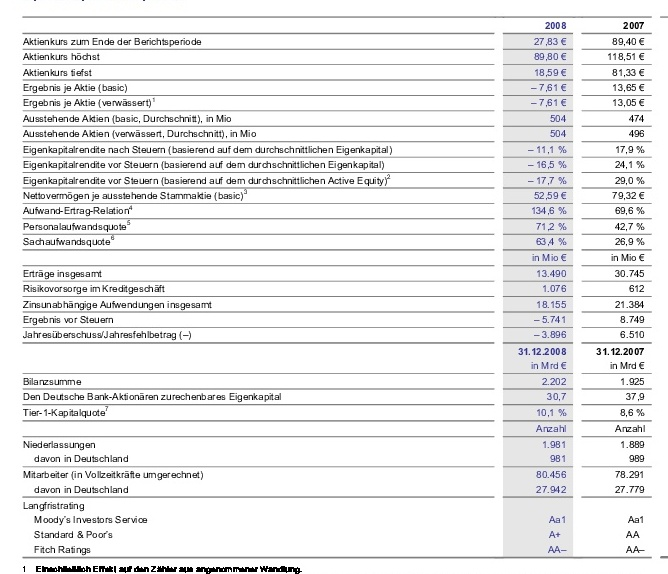table: (0, 0, 668, 574)
